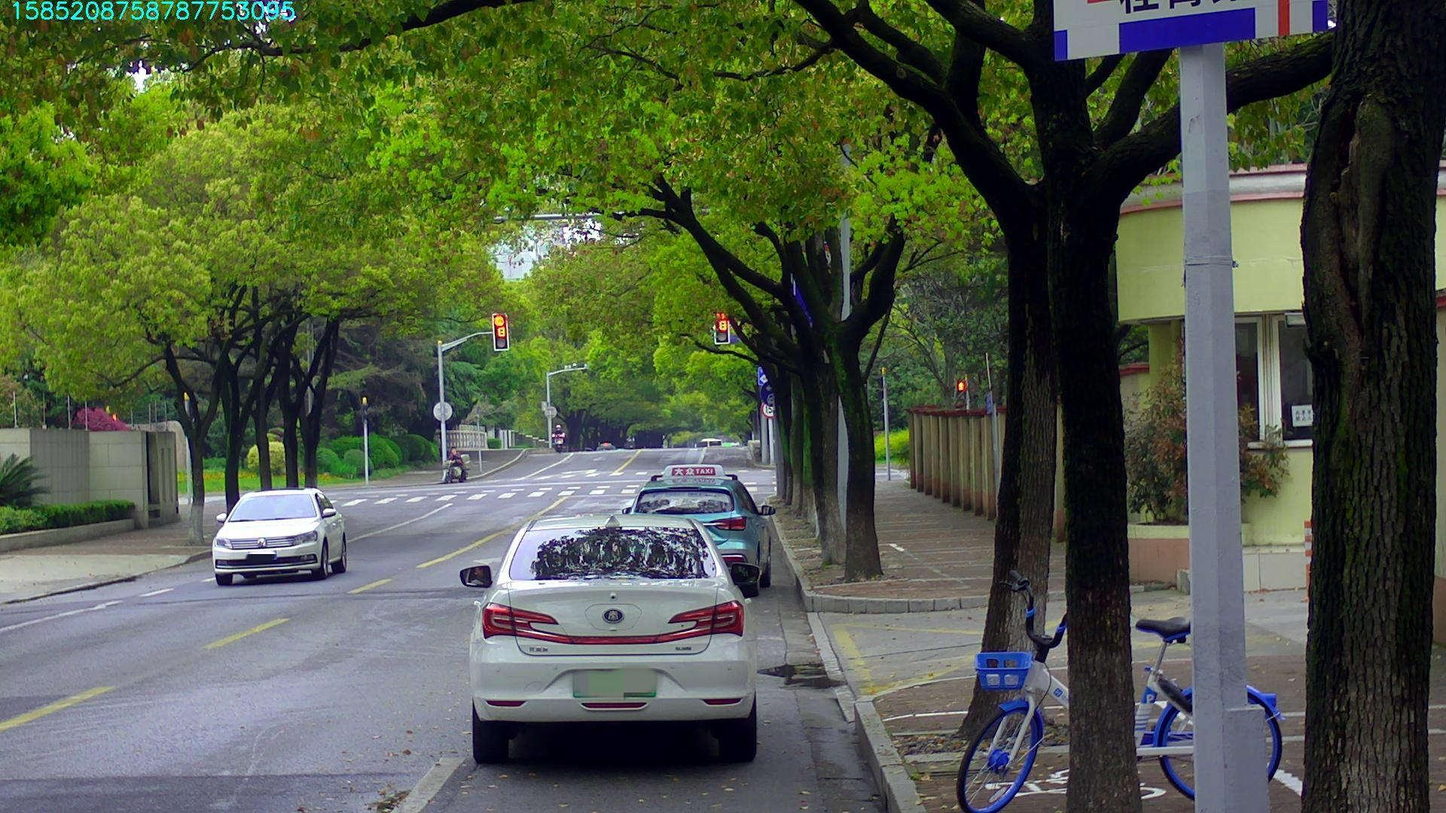red: (493, 312, 508, 349), (713, 312, 729, 343)
